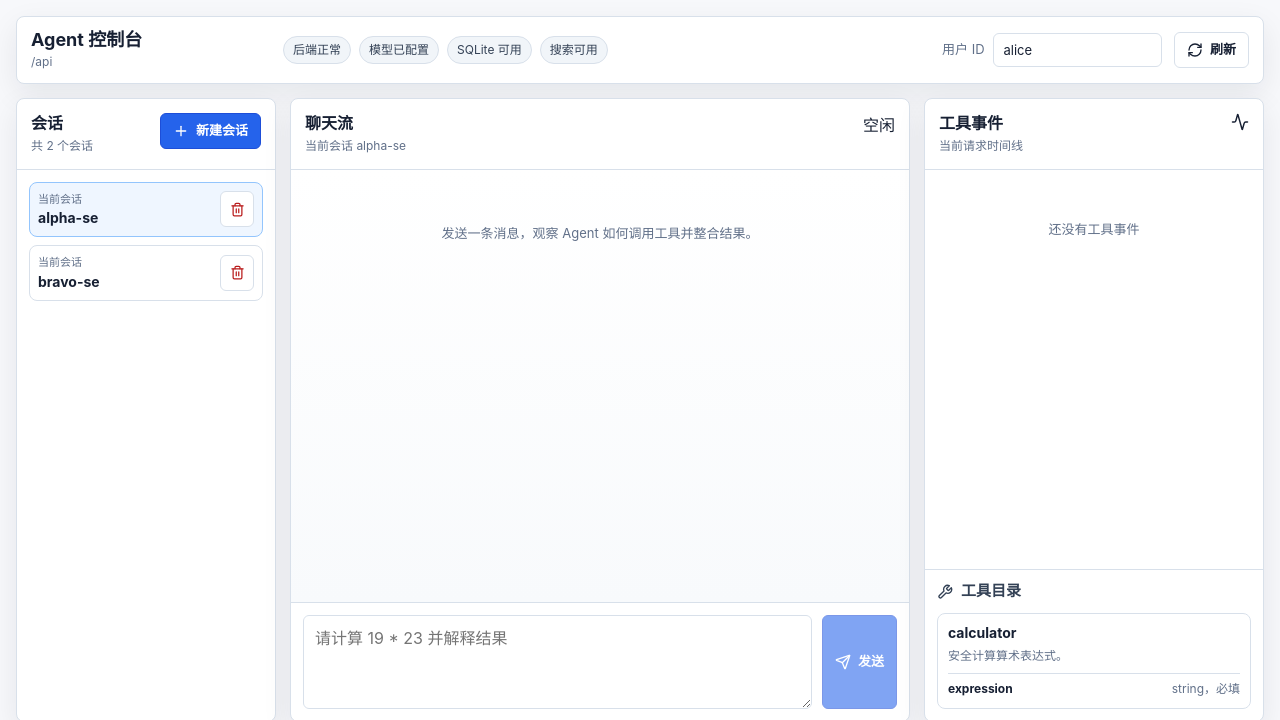
Test: Agent 控制台 › 删除未选中的会话不打断当前会话历史加载
The width and height of the screenshot is (1280, 720).
Expected: the text "alpha-se" is shown, top-left (38, 209), bottom-right (98, 226)
Step 1. Click the button named "删除会话 bravo-se" → (237, 273), box top-left (220, 255), bottom-right (254, 291)
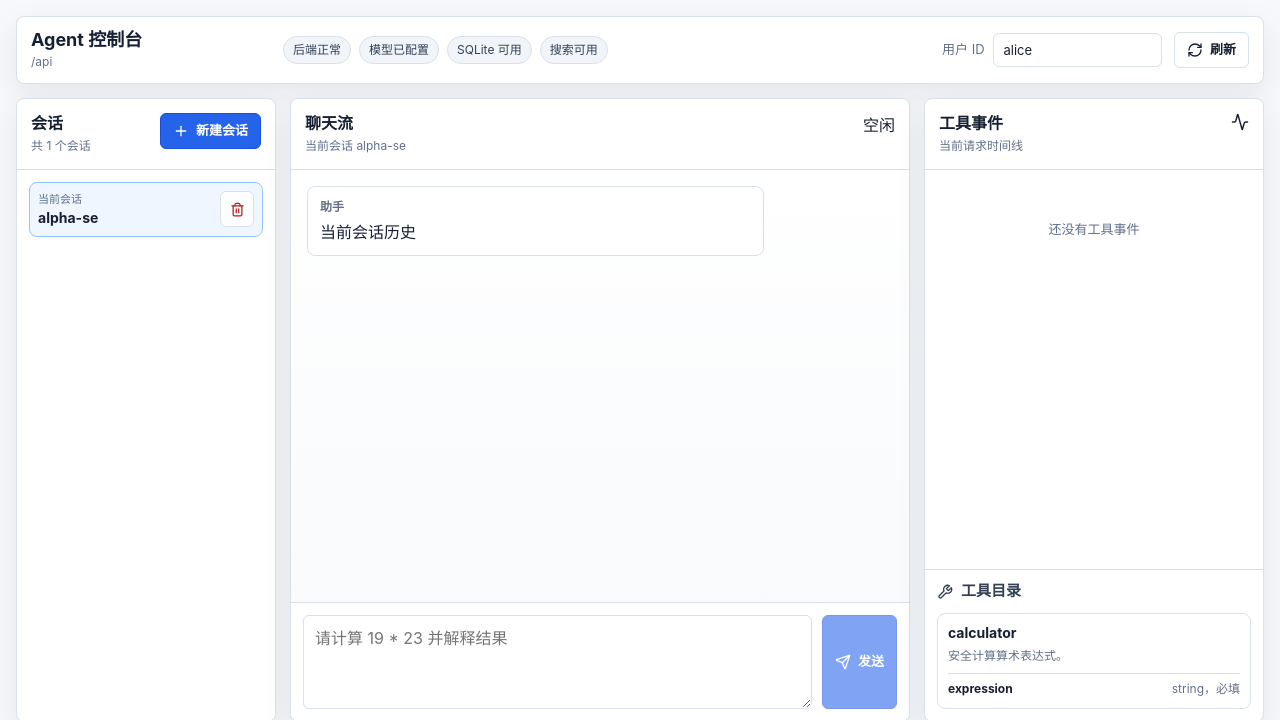
Now the text "当前会话历史" is shown, box top-left (320, 222), bottom-right (416, 242)
Now the button "bravo-se" is gone
